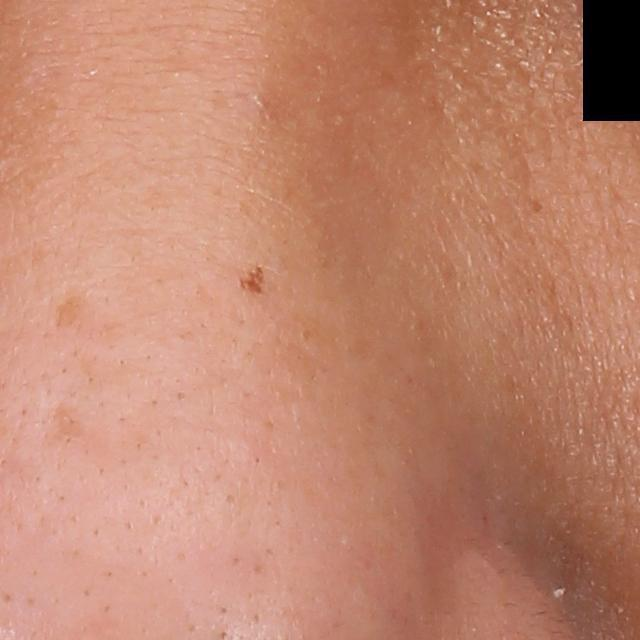melasma: (49, 289, 95, 333)
